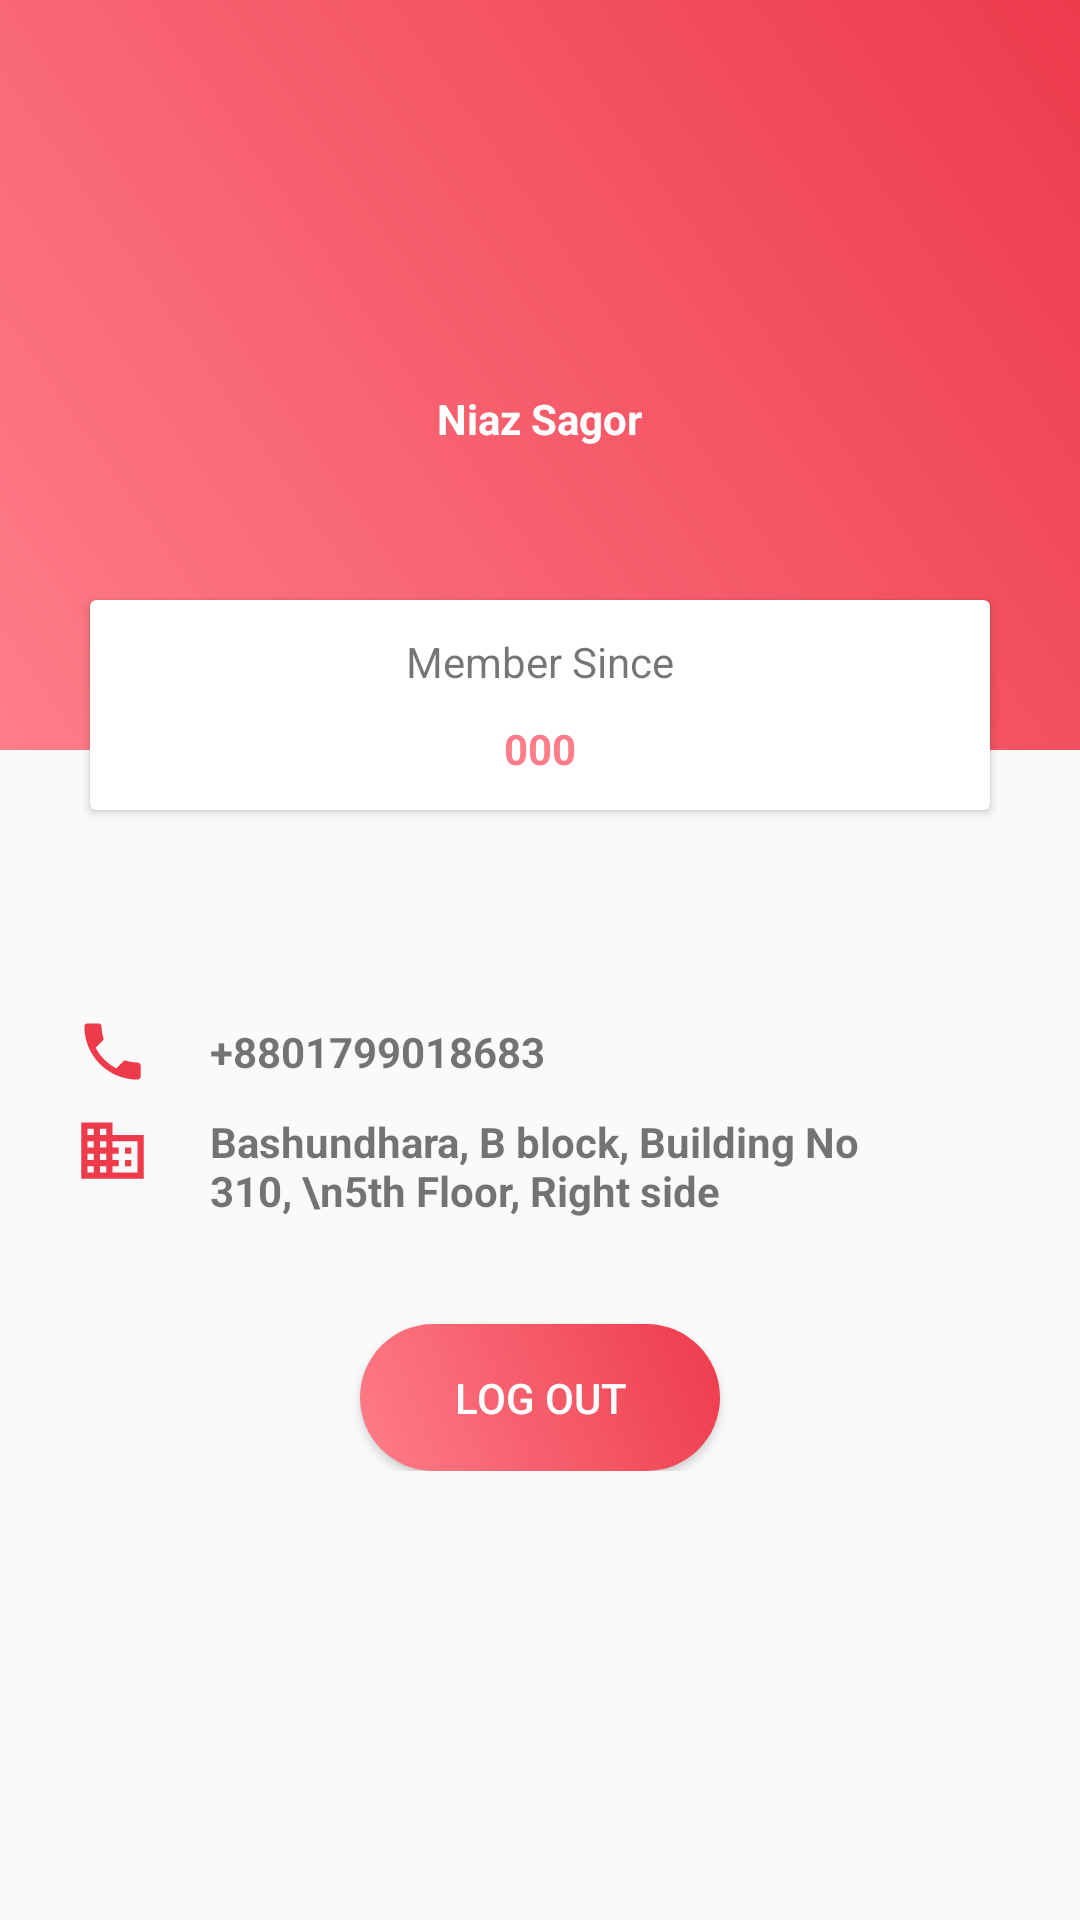

Named icons in this screenshot (1080×1920) and their bounding boxes, Rect(x1, y1, x2, y2):
domain: Rect(81, 1122, 144, 1179)
local phone: Rect(84, 1023, 141, 1080)
